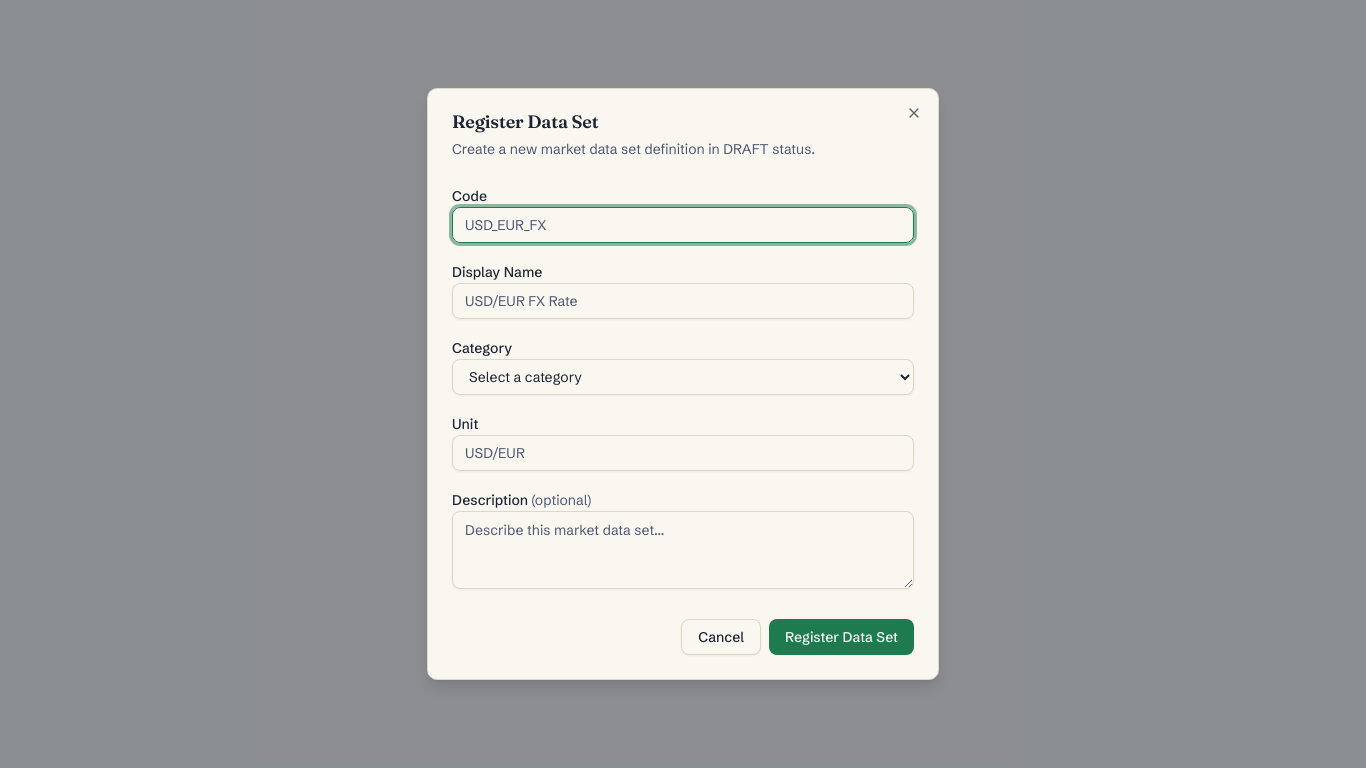
Test: RegisterDataSetDialog - code validation › shows error for code that does not match pattern (lowercase)
The image size is (1366, 768).
Type "invalid_code" into the field labelled "Code" at (683, 225), box [452,207,914,243]
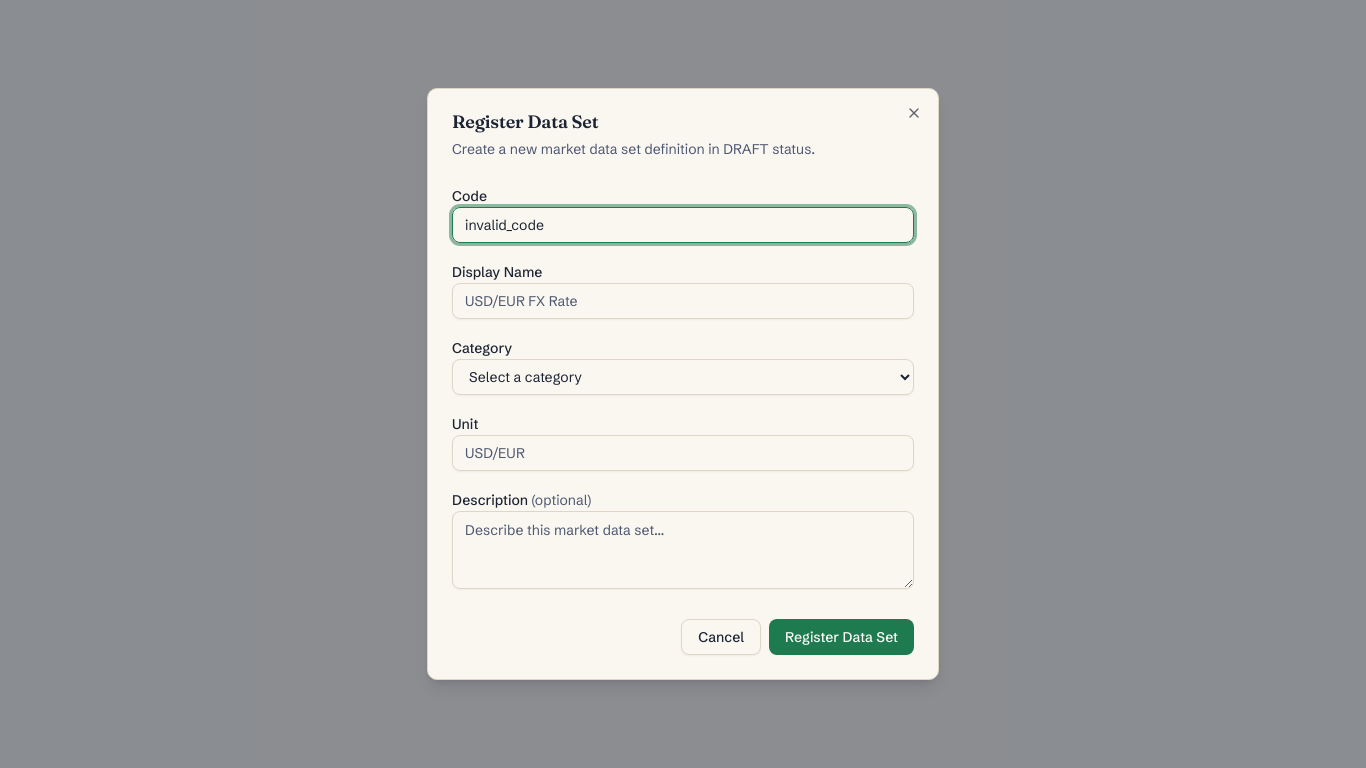
Click the button "Register Data Set" at (842, 637), box [769,619,914,655]
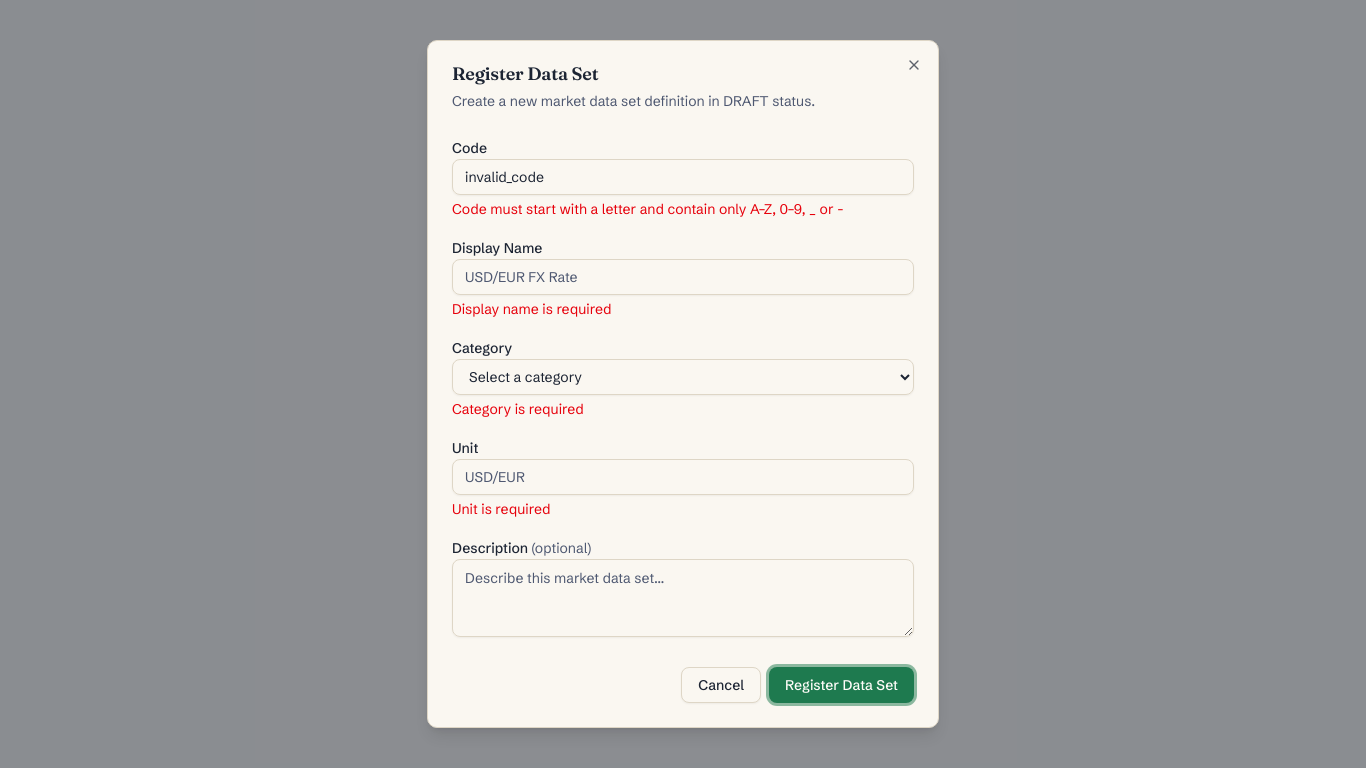
Check: the text "must start with a letter" is shown, box [452,200,844,218]
